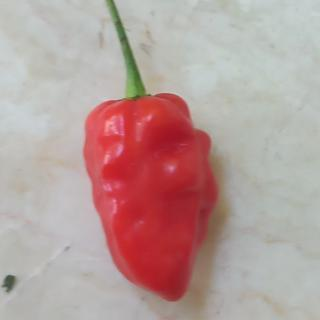Grade-A: (72, 87, 220, 302)
